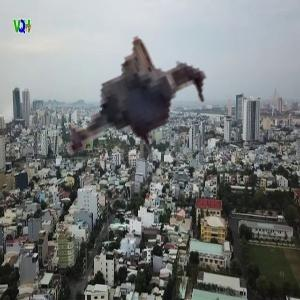drone: (48, 9, 242, 203)
